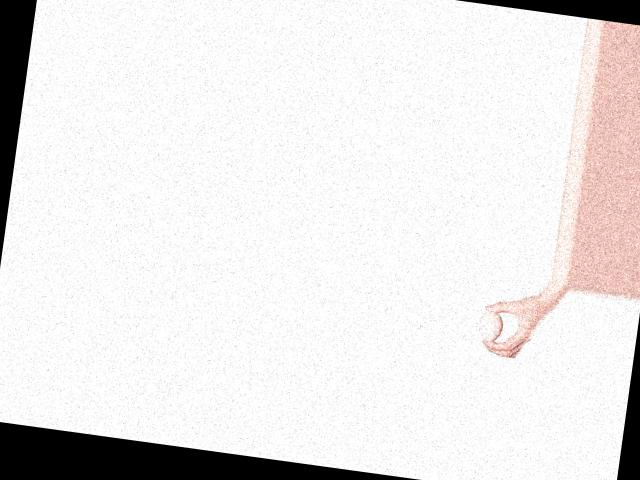egg: (477, 309, 504, 342)
